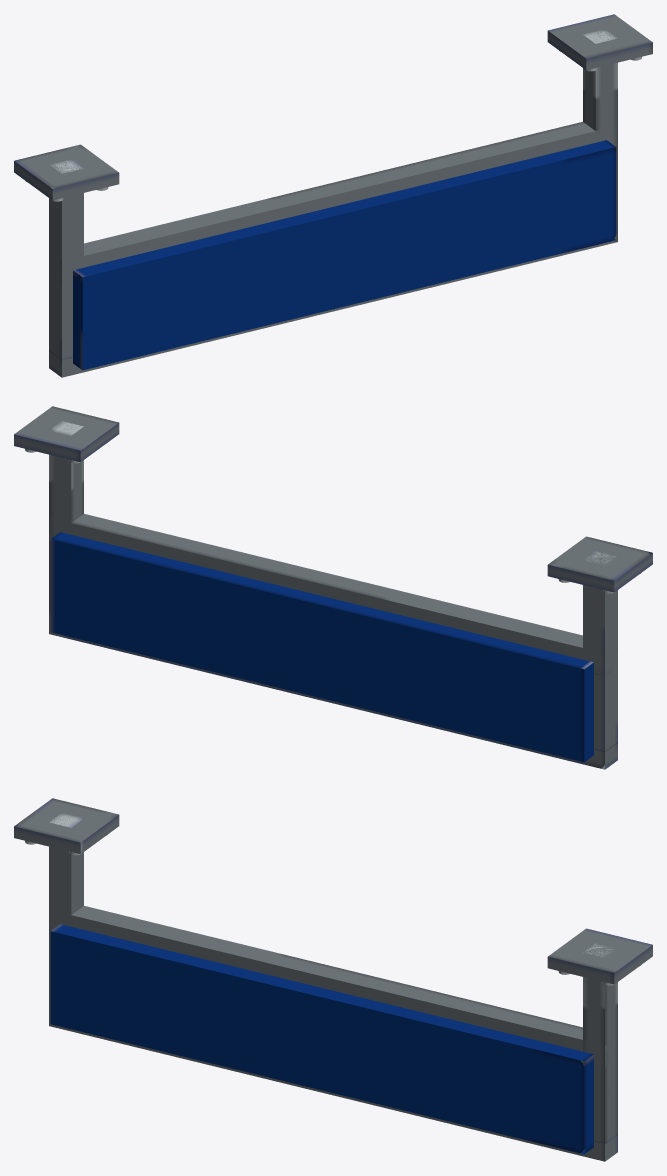
File: nl_station_sign_hanging.obj
The picture shows the model from 3 angles, top to bottom: view 1: azimuth 30°, elevation 25°; view 2: azimuth 150°, elevation 25°; view 3: azimuth 330°, elevation 25°; orthographic projection.
Visible parts, largest first — view 1: sign_back, pole_top, pole_right, foot_right, foot_left, pole_left; view 2: sign_front, pole_top, pole_right, foot_right, foot_left, pole_left; view 3: sign_back, pole_top, pole_left, foot_left, foot_right, pole_right.
Part boxes in pixels (bbox=[...]): sign_back: bbox=[73, 140, 616, 370]; pole_top: bbox=[49, 122, 617, 377]; pole_right: bbox=[49, 159, 83, 360]; foot_right: bbox=[14, 144, 119, 200]; foot_left: bbox=[547, 14, 652, 70]; pole_left: bbox=[583, 30, 617, 223]; sign_front: bbox=[50, 532, 593, 762]; pole_top: bbox=[49, 514, 617, 769]; pole_right: bbox=[583, 551, 617, 752]; foot_right: bbox=[547, 536, 652, 592]; foot_left: bbox=[14, 406, 119, 462]; pole_left: bbox=[49, 421, 83, 615]; sign_back: bbox=[50, 924, 593, 1154]; pole_top: bbox=[49, 906, 617, 1161]; pole_left: bbox=[583, 943, 617, 1143]; foot_left: bbox=[547, 928, 652, 984]; foot_right: bbox=[14, 798, 119, 854]; pole_right: bbox=[49, 813, 83, 1008].
Size of the model in its own units: 3.38 by 1.09 by 0.375.
Materials: 1 (1 with a texture image).
